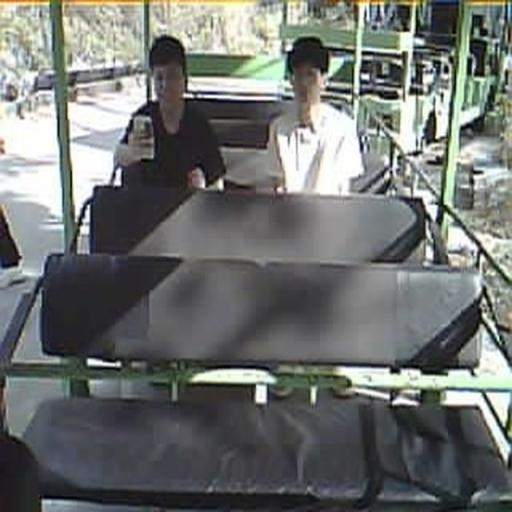persona: (112, 34, 226, 193), (265, 34, 366, 196)
